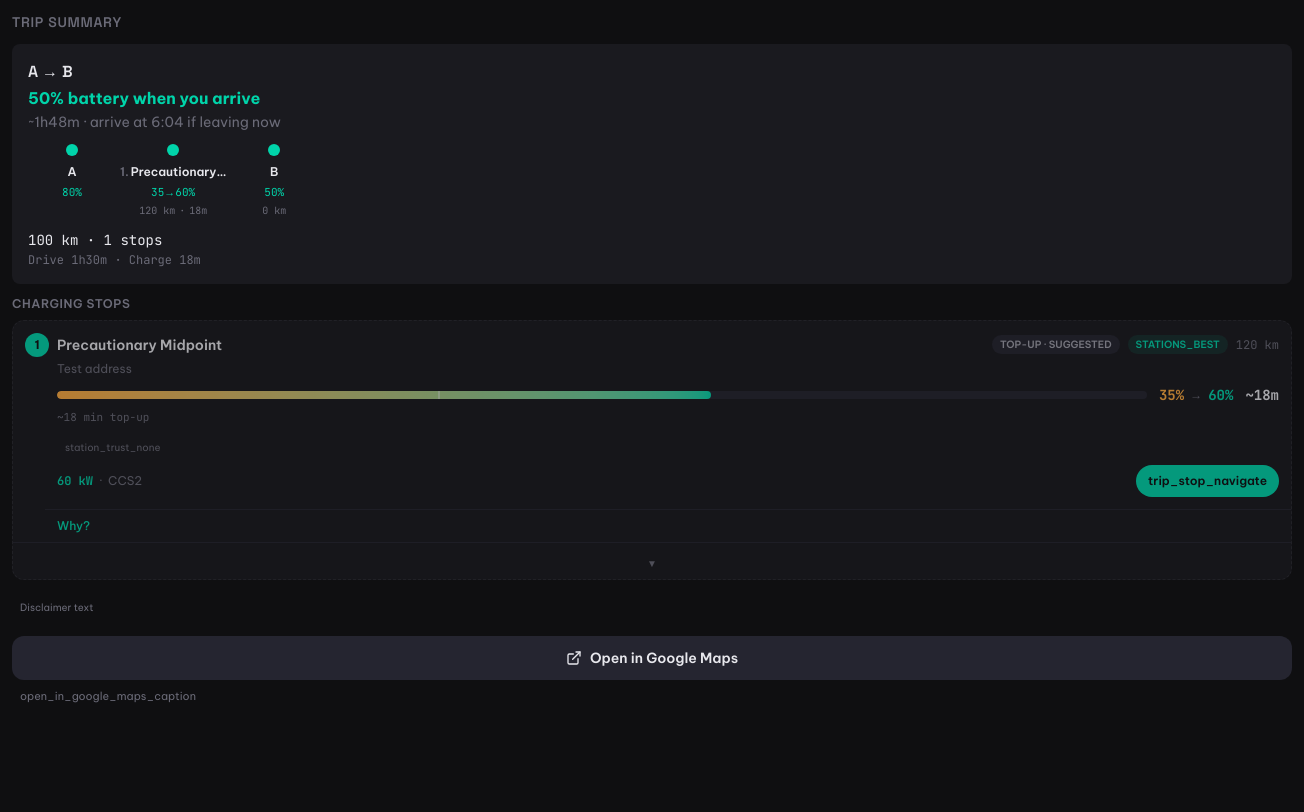
TripSummary — precautionary stops › reveals the holiday reason copy
The width and height of the screenshot is (1304, 812).
Click the button "Why?". click: (74, 526)
box: [57,518,90,534]
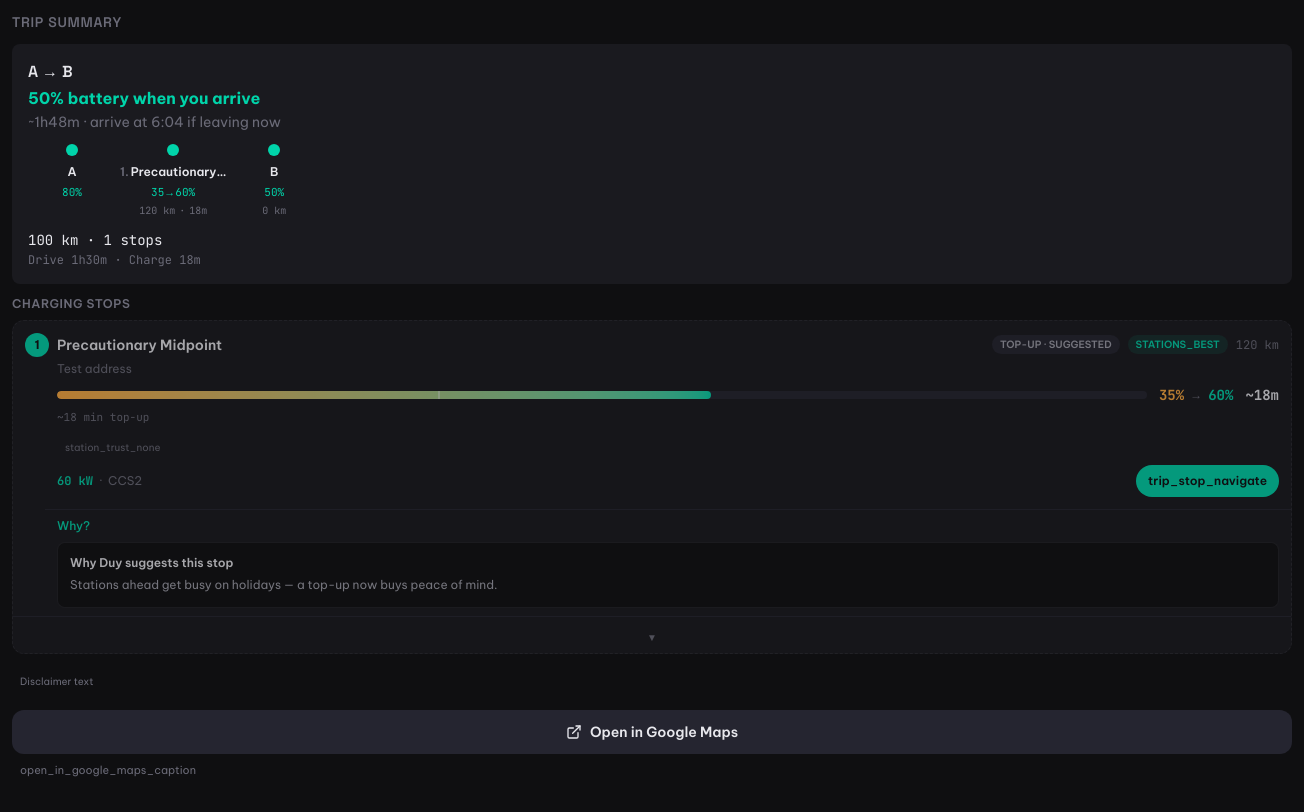
Result: the text "Why Duy suggests this stop" is shown at [70,555,233,570]
Result: the text "Stations ahead get busy on holidays — a top-up now buys peace of mind." is shown at [70,577,498,592]
